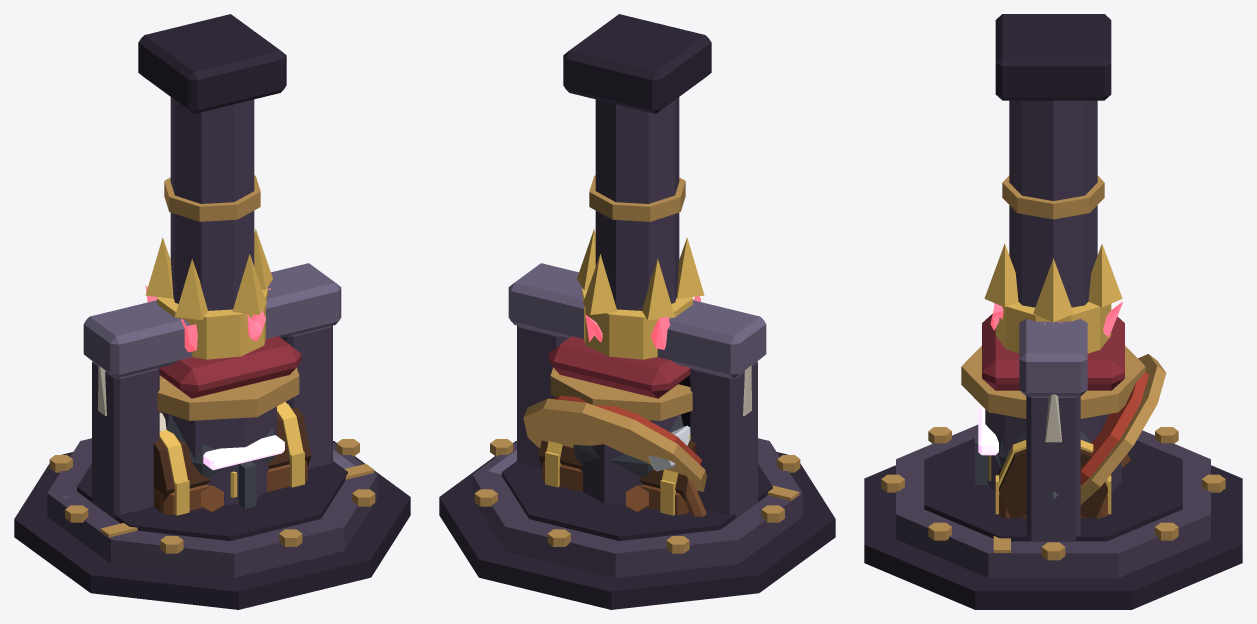
File: map-tokens.glb
3 renders of one model, left to right at view 1: azimuth 30°, elevation 25°; view 2: azimuth 150°, elevation 25°; view 3: azimuth 270°, elevation 25°, orthographic. The views are drawn at different scales.
Parts seen in each view (by area): view 1: map-entrance, map-pillar, map-tile, token-boss, token-treasure, token-elite, map-stair; view 2: map-entrance, map-pillar, map-tile, token-boss, token-battle, token-treasure, token-elite, token-forge, map-stair; view 3: map-entrance, map-tile, map-pillar, token-boss, token-battle, token-treasure, token-elite.
Part boxes in pixels (<box>): map-entrance: <box>14,263,410,609</box>; map-pillar: <box>138,14,286,310</box>; map-tile: <box>47,438,377,577</box>; token-boss: <box>145,229,301,504</box>; token-treasure: <box>153,402,311,515</box>; token-elite: <box>98,365,284,508</box>; map-stair: <box>63,450,374,537</box>; map-entrance: <box>439,263,835,609</box>; map-pillar: <box>563,14,711,310</box>; map-tile: <box>472,438,802,577</box>; token-boss: <box>548,229,704,504</box>; token-battle: <box>523,395,706,491</box>; token-treasure: <box>538,434,696,515</box>; token-elite: <box>573,365,751,477</box>; token-forge: <box>648,425,706,516</box>; map-stair: <box>488,450,799,500</box>; map-entrance: <box>864,318,1242,609</box>; map-tile: <box>881,424,1225,577</box>; map-pillar: <box>995,14,1111,307</box>; token-boss: <box>961,243,1145,492</box>; token-battle: <box>1080,354,1166,504</box>; token-treasure: <box>988,440,1111,518</box>; token-elite: <box>975,394,1091,484</box>.
Size of the model in its own units: 1.11 by 1.71 by 1.11.
